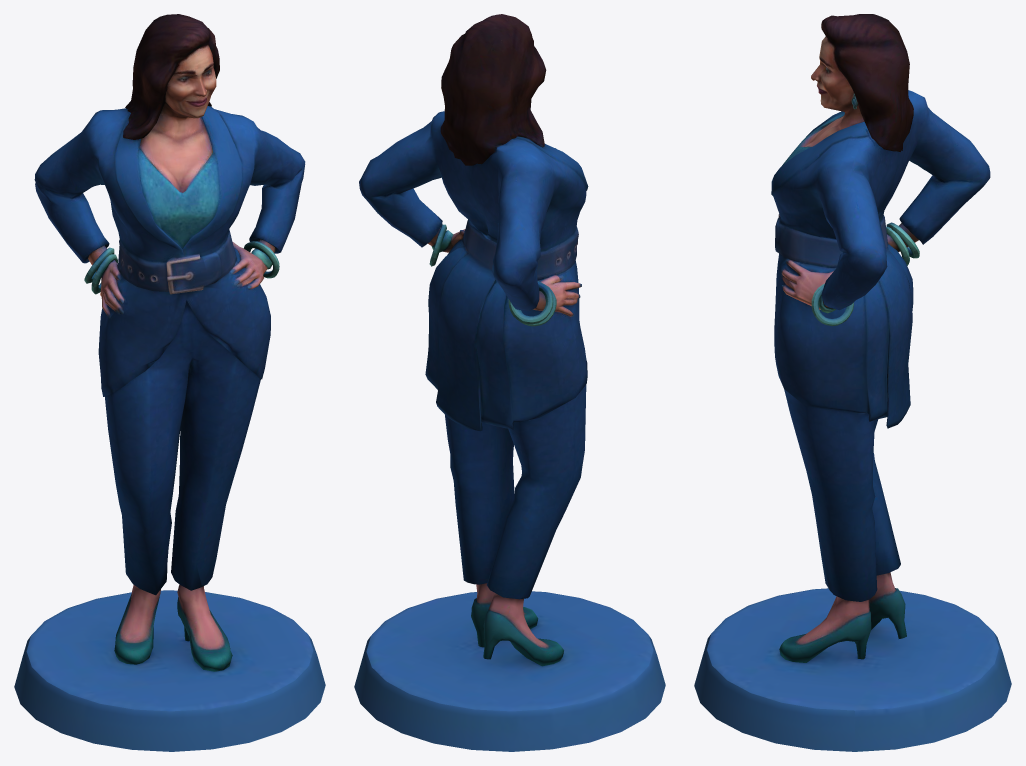
Rendered from azure_main.obj.
3 views of the same model, side by side, from view 1: azimuth 30°, elevation 25°; view 2: azimuth 150°, elevation 25°; view 3: azimuth 270°, elevation 25° (orthographic).
Parts seen in each view (by area): view 1: peacockMain_0; view 2: peacockMain_0; view 3: peacockMain_0.
Part boxes in pixels (x1,y1,x2,y2): peacockMain_0: (14,14,325,751); peacockMain_0: (354,14,665,751); peacockMain_0: (694,14,1011,751).
Size of the model in its own units: 0.812 by 1.87 by 0.798.
